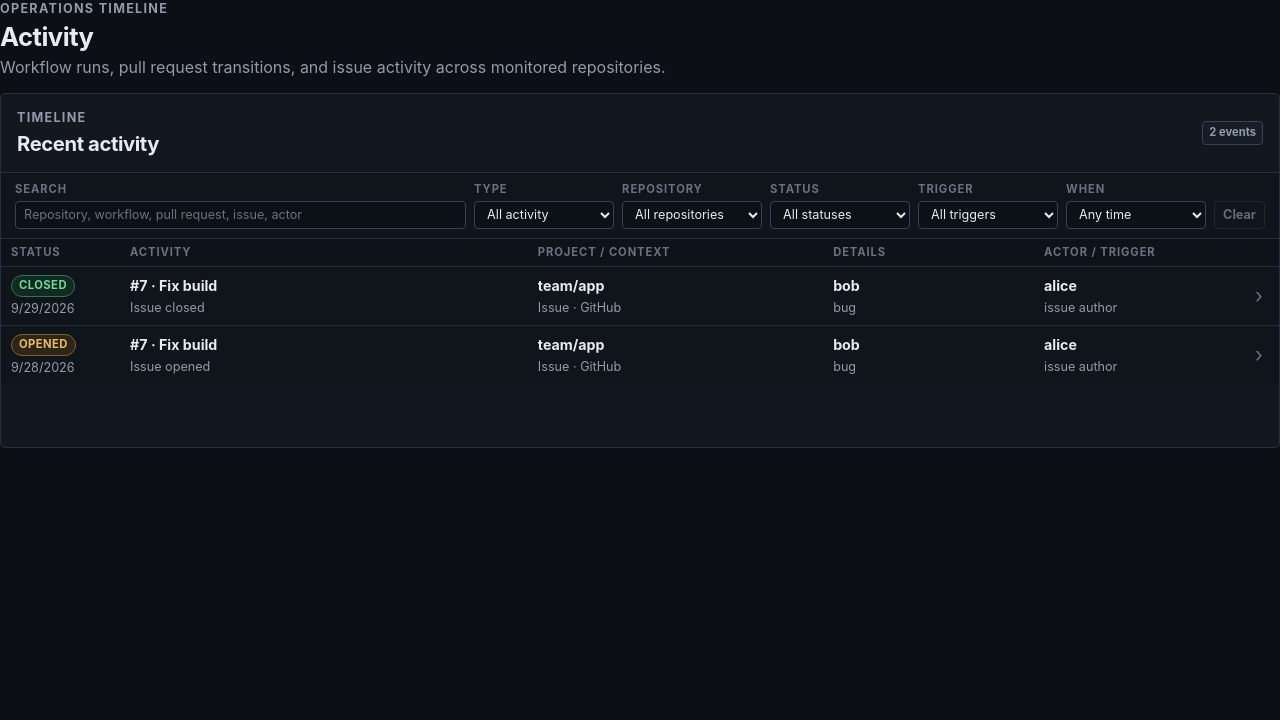
Scenario: issue activity › sorts issue events, filters them, and opens current issue details
The image size is (1280, 720).
Expected: the number of buttons named "Open issue 7 in team/app" is 2, 1,267 -> 1279,326; 1,326 -> 1279,385
Expected: the text "Closed" is shown, 11,275 -> 75,297
Select "Issues" in the dropdown labelled "Type" at (544, 214), box 474,200 -> 614,228
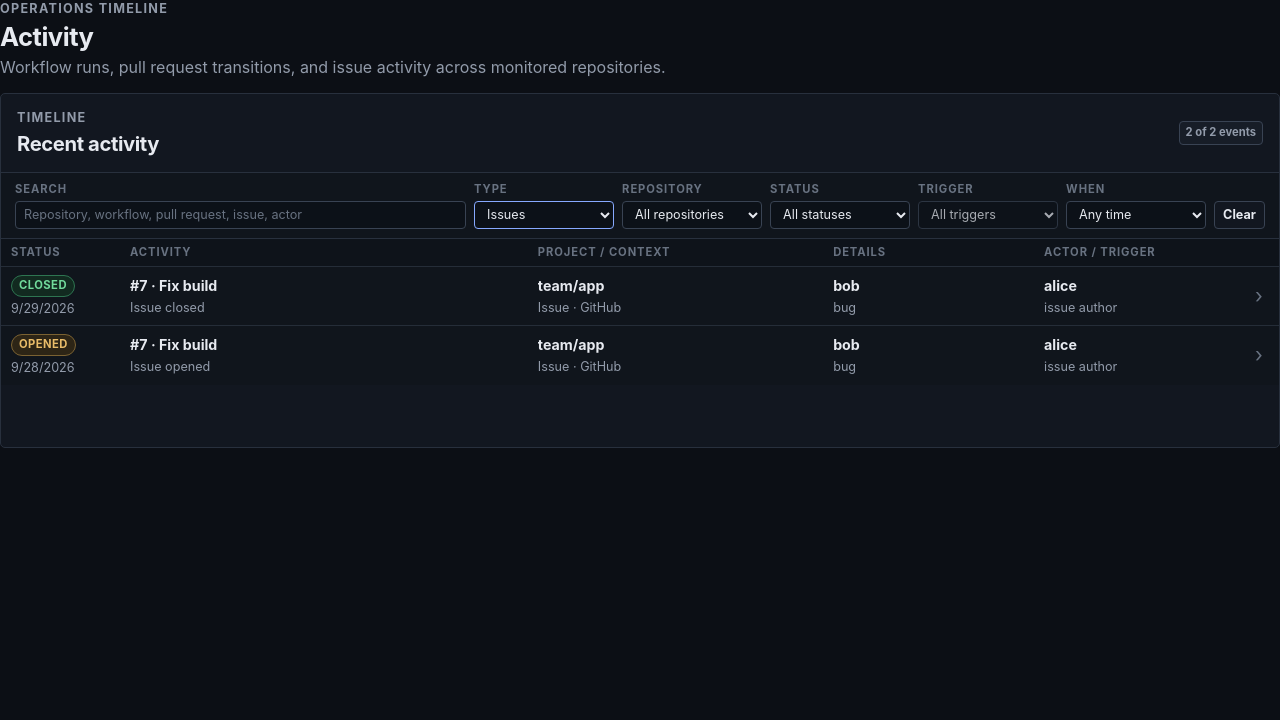
Expected: the dropdown labelled "Trigger" is disabled, 918,200 -> 1058,228
Select "Successful" in the dropdown labelled "Status" at (840, 214), box 770,200 -> 910,228
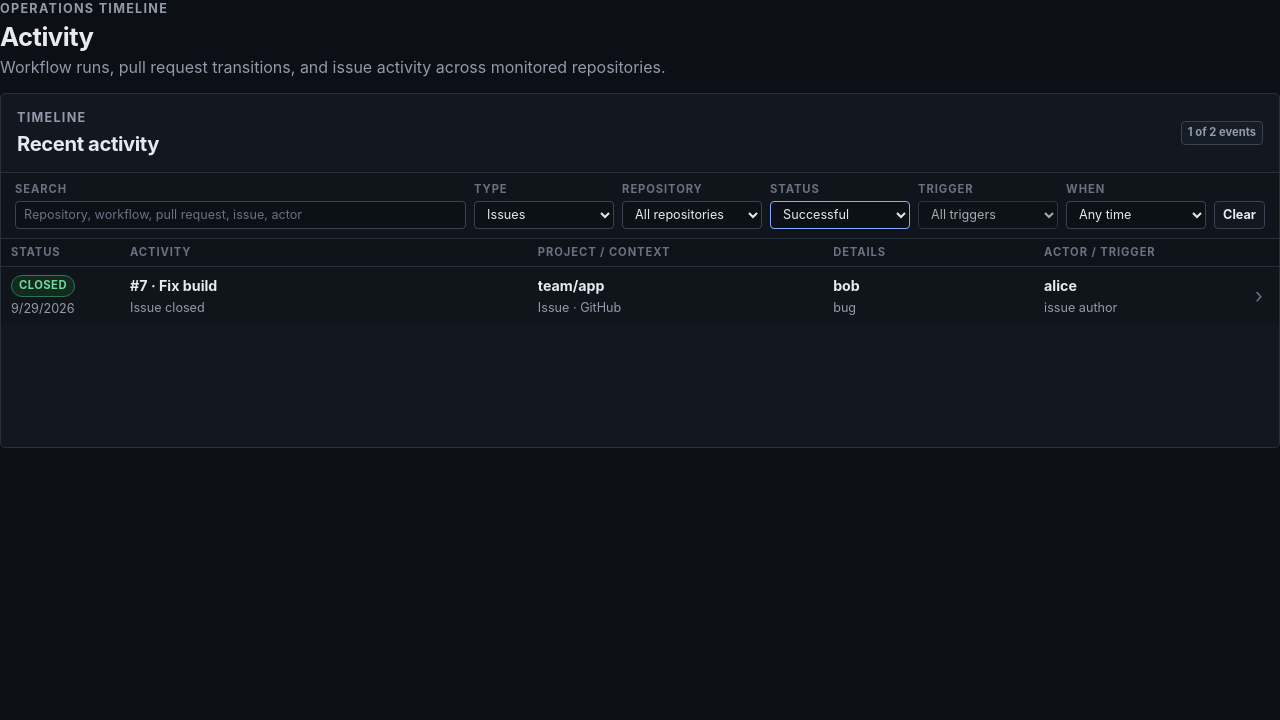
Expected: the number of buttons named "Open issue 7 in team/app" is 1, 1,267 -> 1279,326
Type "bob" into the search field labelled "Search" at (241, 214), box 15,200 -> 466,228
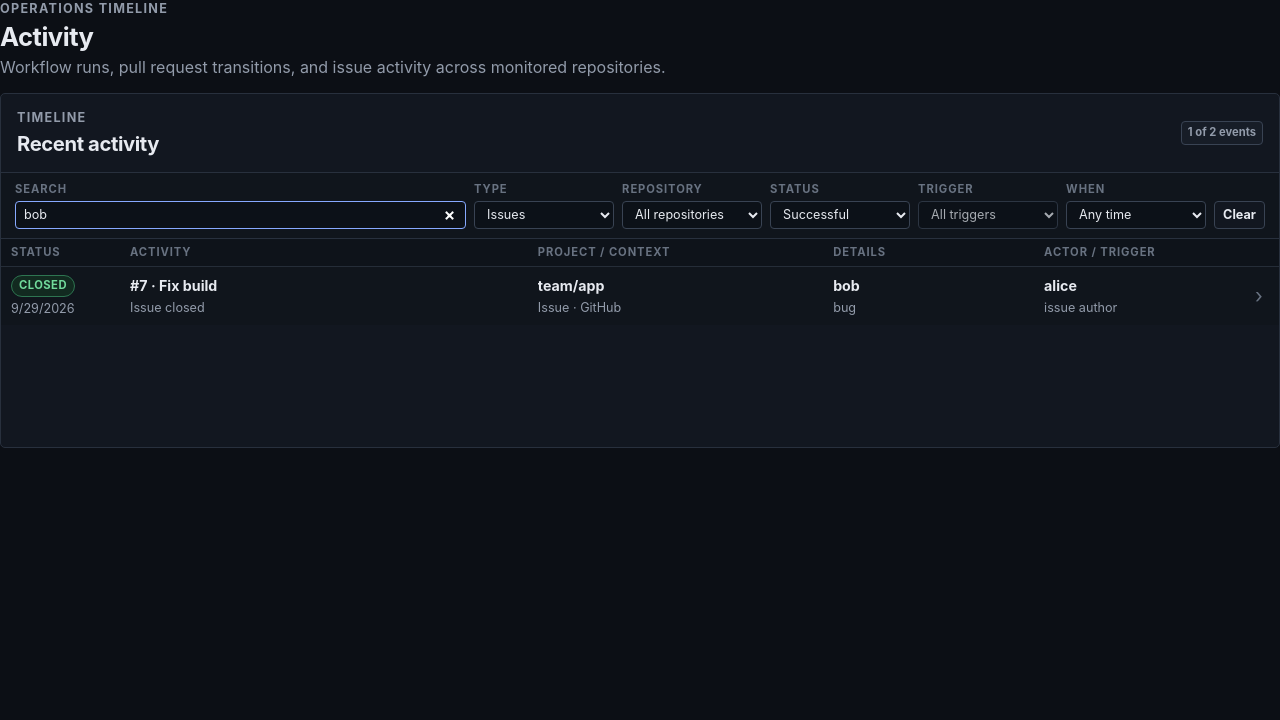
Click the button with aria-label "Open issue 7 in team/app" at (43, 286), box 1,267 -> 1279,326
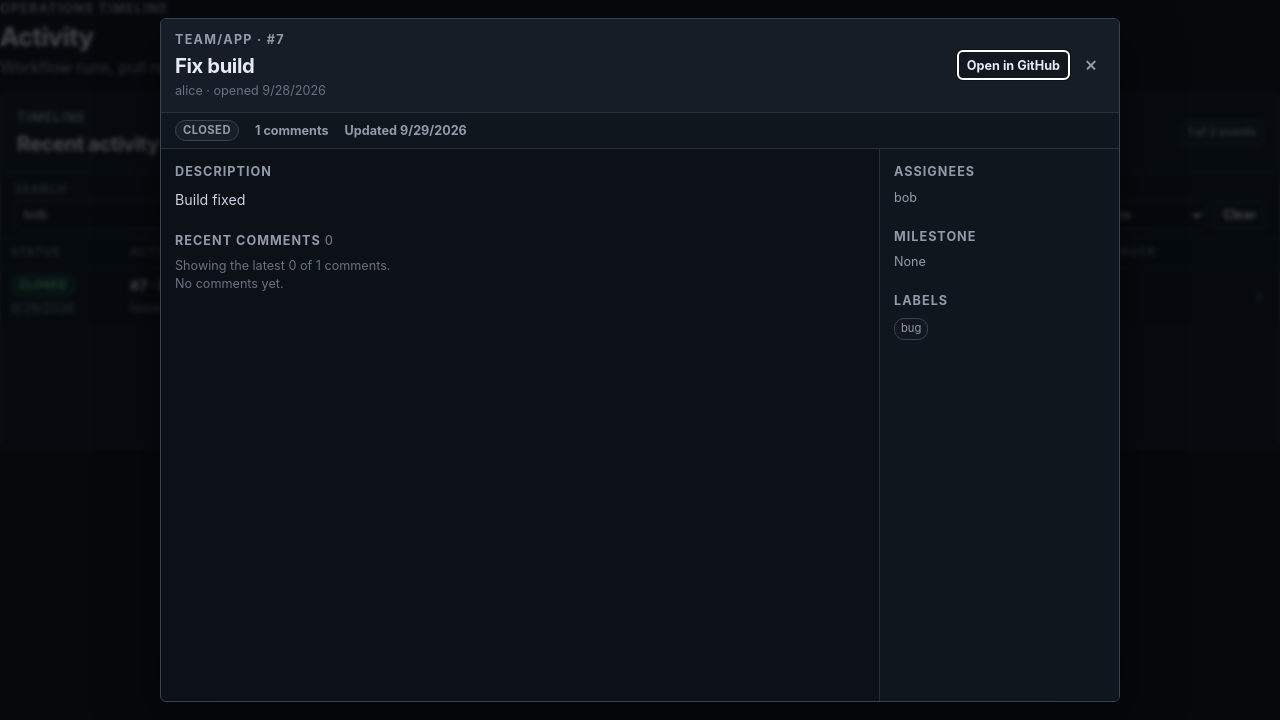
Expected: the text "Build fixed" is shown, 175,191 -> 246,208
Click the button named "Close issue details" at (1091, 65), box 1077,51 -> 1105,79
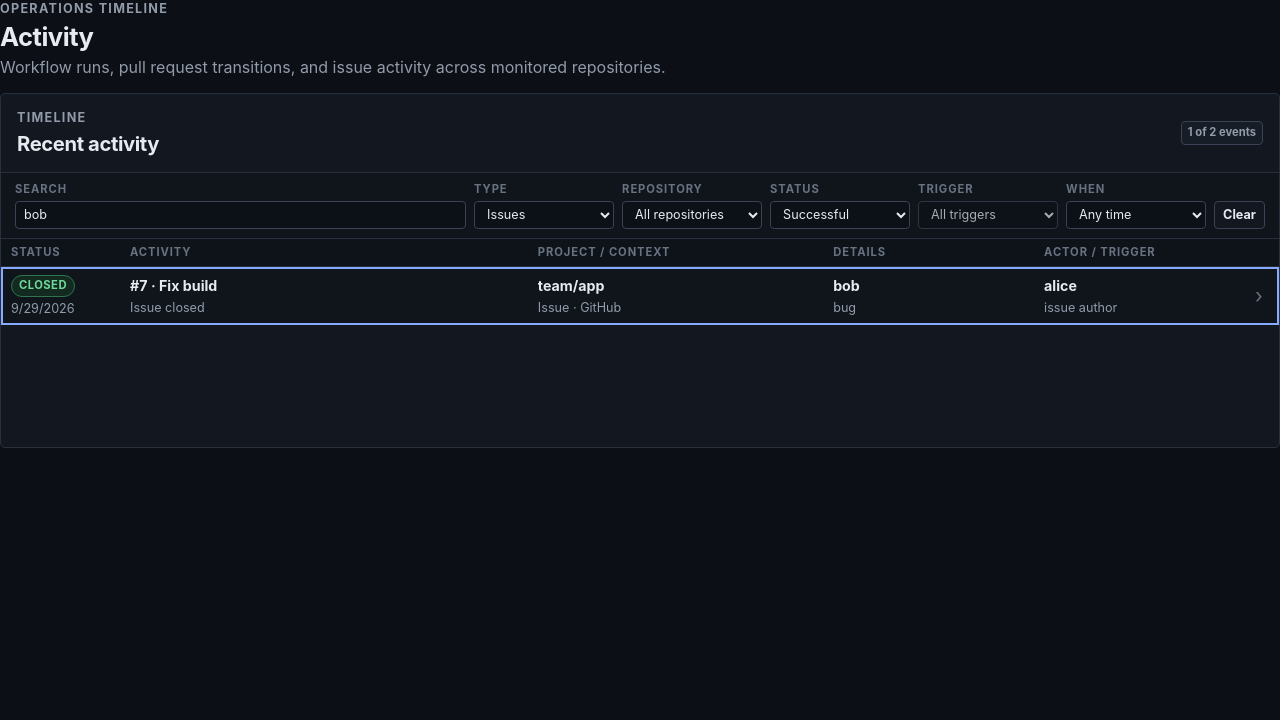
Replace the text in the search field labelled "Search" with "unrelated" at (241, 214), box 15,200 -> 466,228
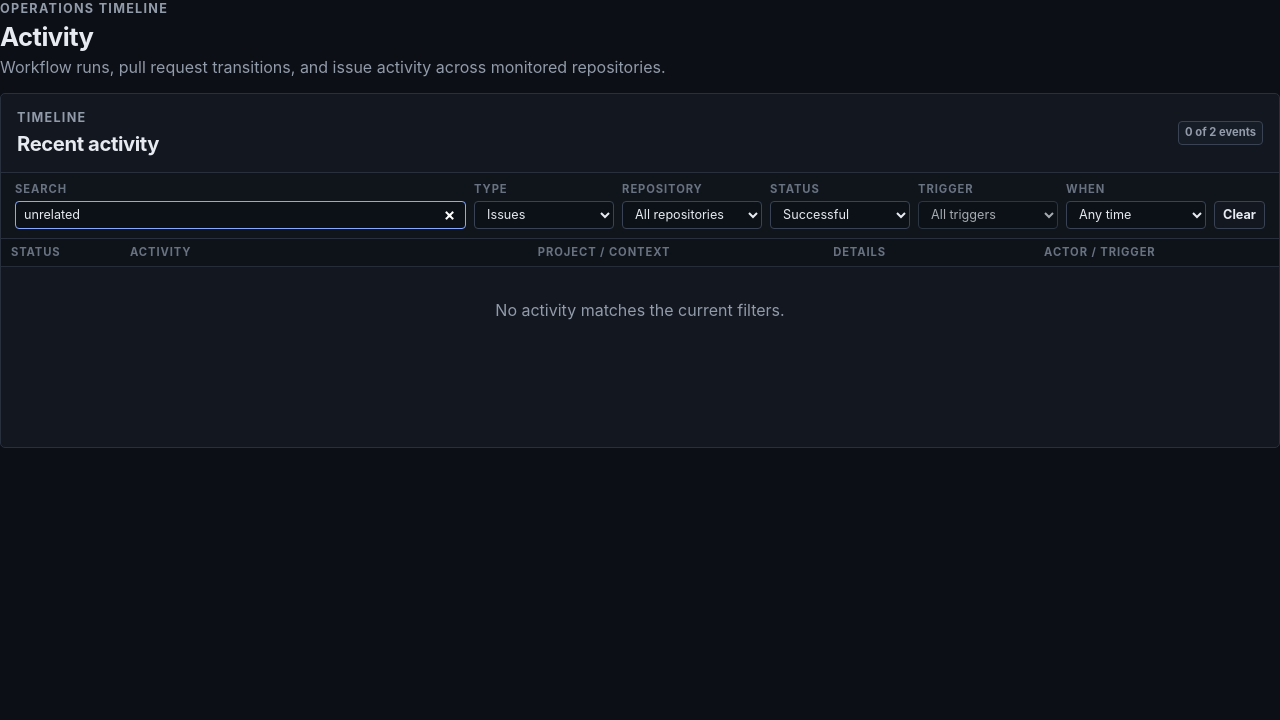
Expected: the text "No activity matches the current filters." is shown, 495,300 -> 785,320
